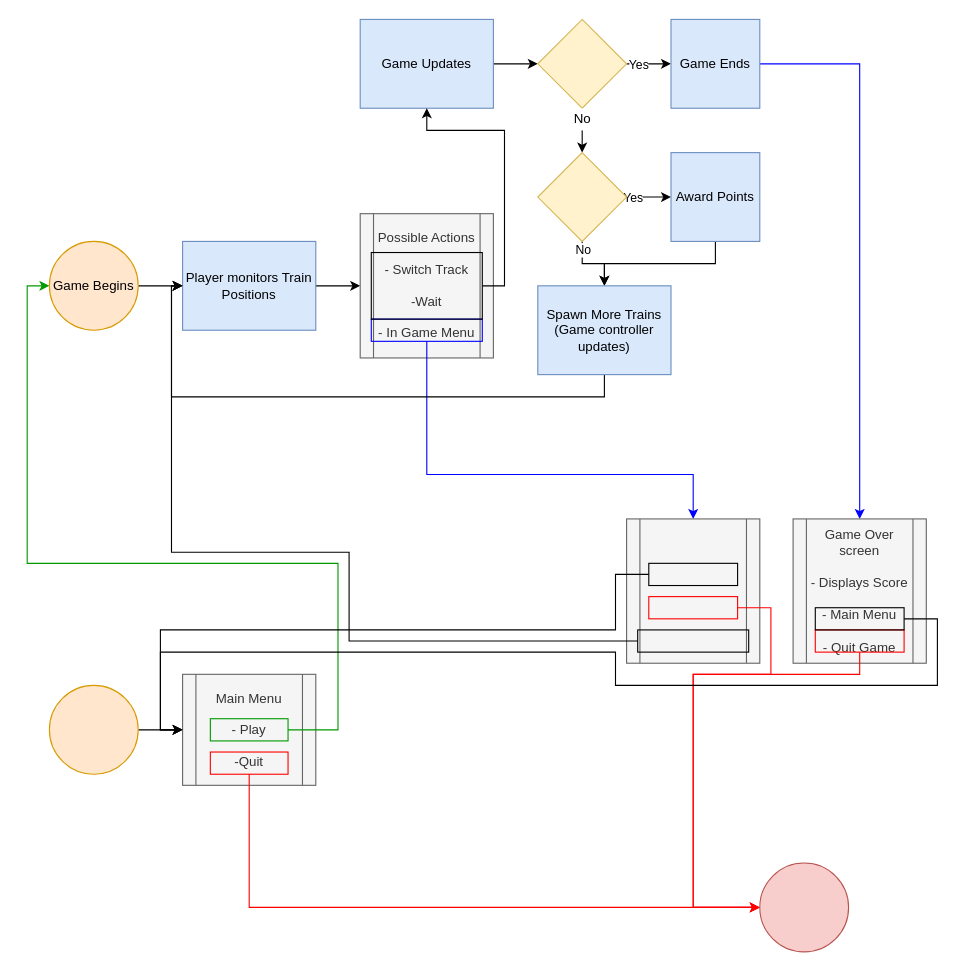
Some shapes in this 966 by 971 pixel diagram are drawn without their labels. The shapes that lost their labels are listed below. From the top down, each one's box as (x1, y1, x2, y2) in pixels, then its label:
(537, 18, 627, 108): Was there a train collision?
(537, 152, 627, 241): Did a train leave the map?
(625, 518, 760, 663): In Game Menu - Main Menu - Quit Game - Close Window
(48, 684, 138, 774): Game Start
(759, 862, 849, 952): Exit Game
